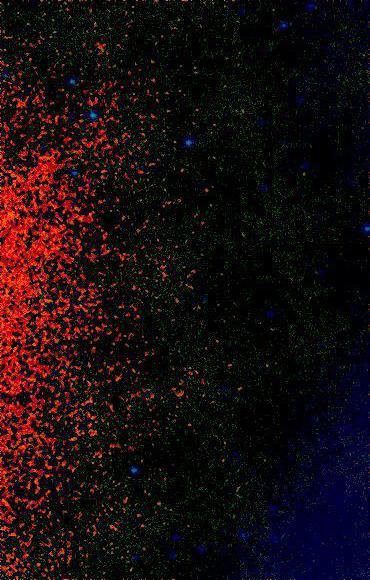star: (289, 160, 319, 190)
